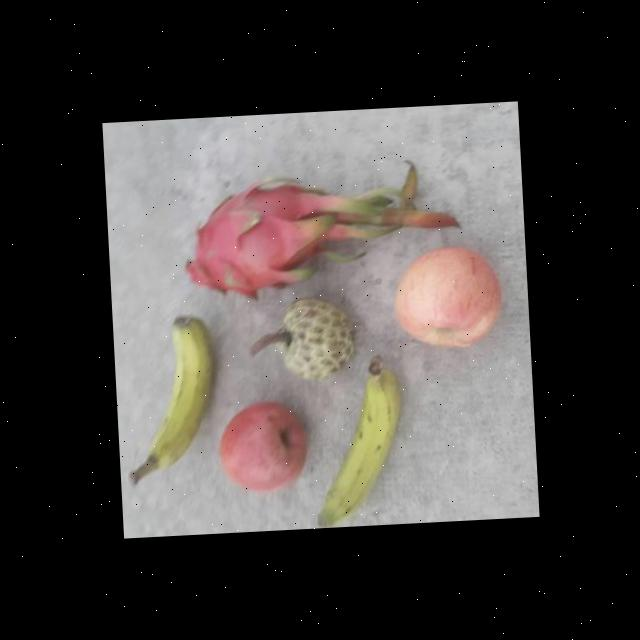Sakya fruit: (269, 292, 357, 383)
apple: (214, 400, 308, 500)
banana: (119, 312, 224, 484), (308, 361, 405, 528)
pitaya: (177, 168, 346, 308)
